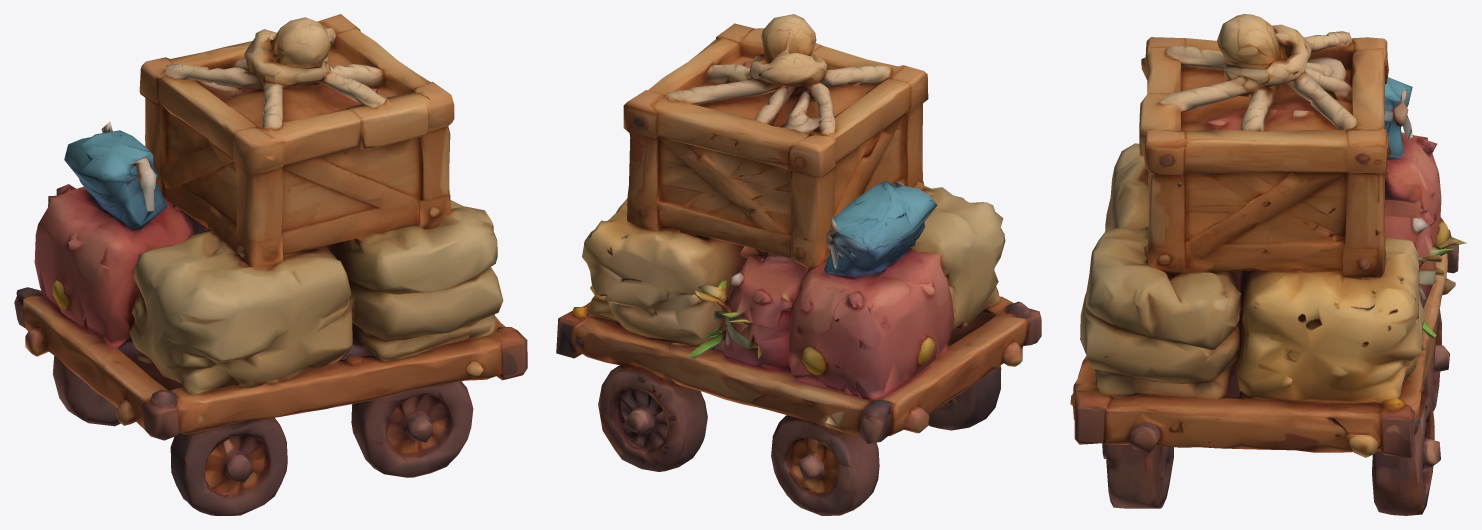
Rendered from prop_supply_cart_model.glb.
The picture shows the model from 3 angles, left to right: view 1: azimuth 30°, elevation 25°; view 2: azimuth 150°, elevation 25°; view 3: azimuth 270°, elevation 25°; orthographic projection. The views are drawn at different scales.
Parts seen in each view (by area): view 1: tripo_node_f3b63fc5-1b43-4564-9ba8-8f7b28d8703e; view 2: tripo_node_f3b63fc5-1b43-4564-9ba8-8f7b28d8703e; view 3: tripo_node_f3b63fc5-1b43-4564-9ba8-8f7b28d8703e.
Boxes of the visible parts, <box> form: tripo_node_f3b63fc5-1b43-4564-9ba8-8f7b28d8703e: <box>14,14,527,515</box>; tripo_node_f3b63fc5-1b43-4564-9ba8-8f7b28d8703e: <box>556,14,1041,515</box>; tripo_node_f3b63fc5-1b43-4564-9ba8-8f7b28d8703e: <box>1070,14,1467,515</box>.
Size of the model in its own units: 0.9321 by 1 by 0.7883.
1 material, 1 textured.
